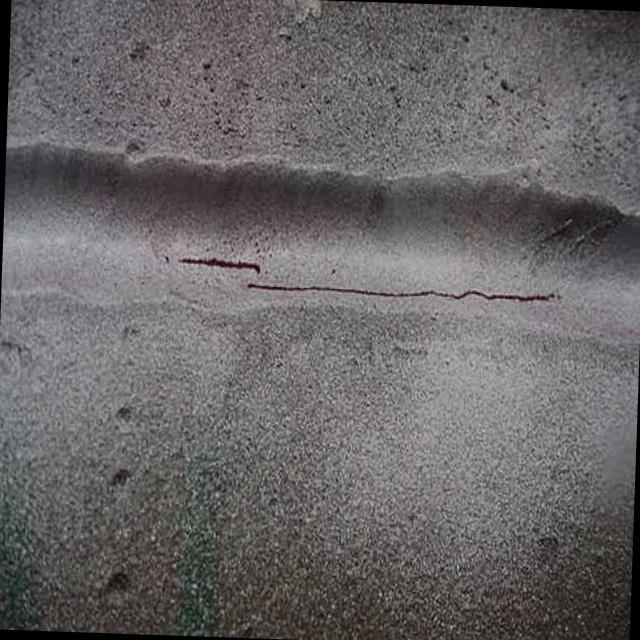defect: (238, 278, 569, 308), (169, 252, 263, 279)
